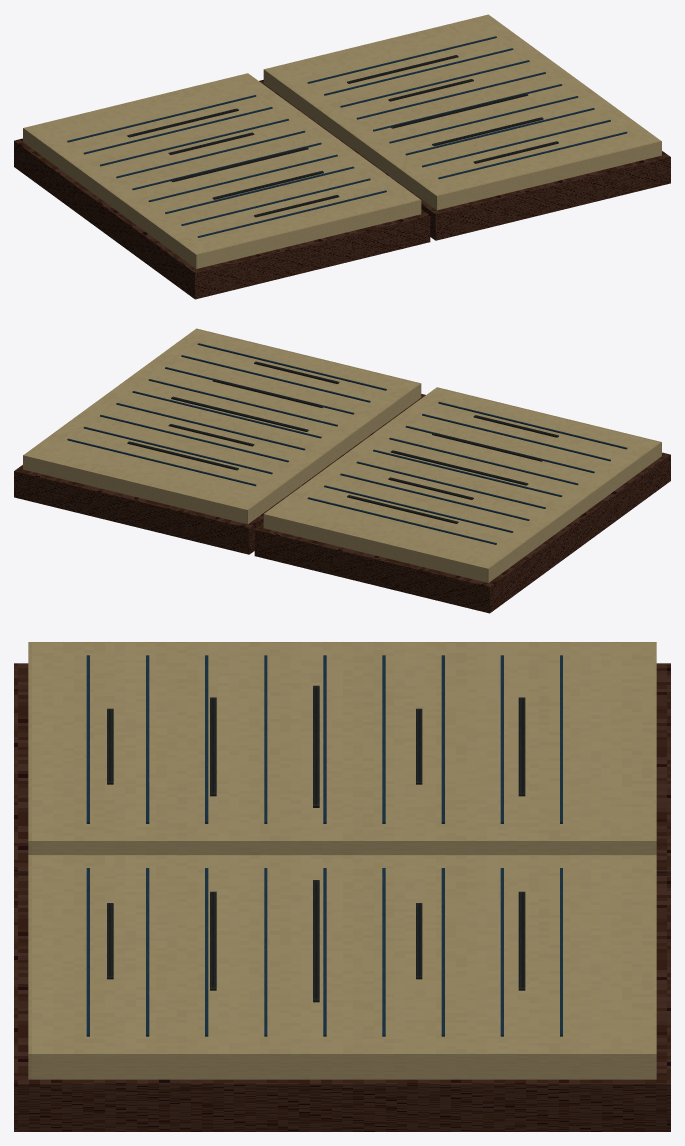
The model's file is level_trace_journal.glb.
3 renders of one model, top to bottom at view 1: azimuth 30°, elevation 25°; view 2: azimuth 150°, elevation 25°; view 3: azimuth 270°, elevation 25°, orthographic. The views are drawn at different scales.
Visible parts, largest first — view 1: level_trace_journal; view 2: level_trace_journal; view 3: level_trace_journal.
Part boxes in pixels (box(x1,y1,x2,y2)): level_trace_journal: box(14, 14, 670, 299); level_trace_journal: box(14, 328, 670, 613); level_trace_journal: box(14, 642, 670, 1131).
Size of the model in its own units: 0.455 by 0.0395 by 0.3.
Materials: 4 (4 with a texture image).
